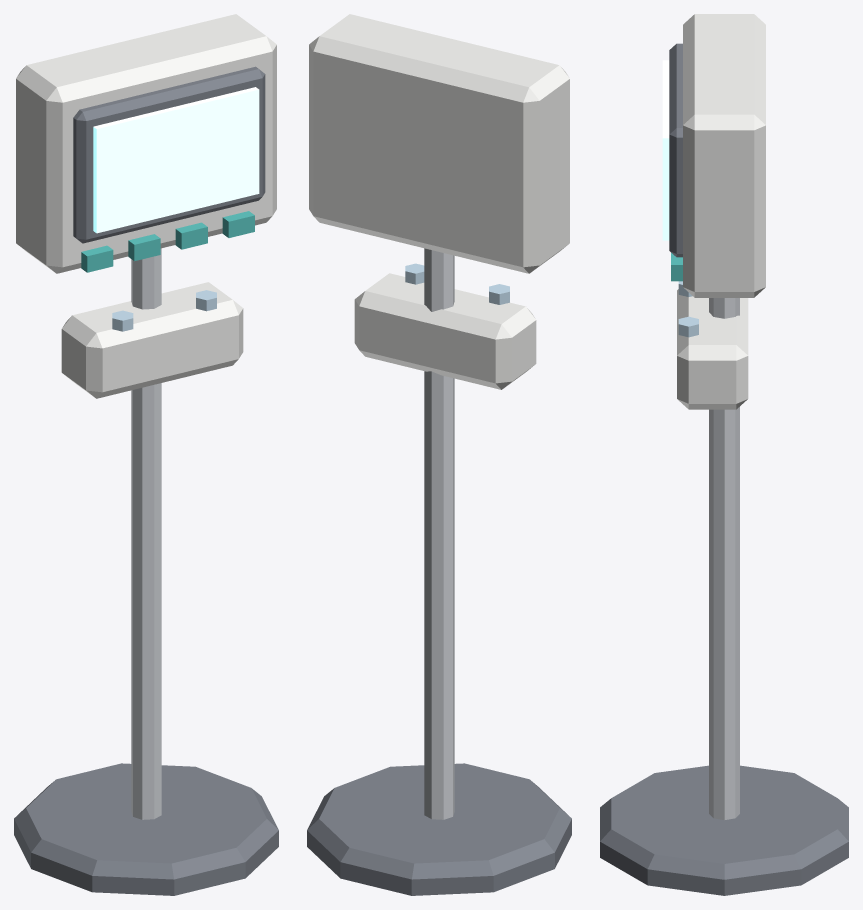
The model's file is hospital-wards-and-clinic-operations-patient-monitor-af189b00.glb.
The picture shows the model from 3 angles, left to right: view 1: azimuth 30°, elevation 25°; view 2: azimuth 150°, elevation 25°; view 3: azimuth 270°, elevation 25°; orthographic projection.
Parts seen in each view (by area): view 1: patient-monitor; view 2: patient-monitor; view 3: patient-monitor.
Part boxes in pixels (x1,y1,x2,y2): patient-monitor: (14,14,278,895); patient-monitor: (307,14,571,895); patient-monitor: (600,14,848,895).
Size of the model in its own units: 0.44 by 1.44 by 0.4184.
